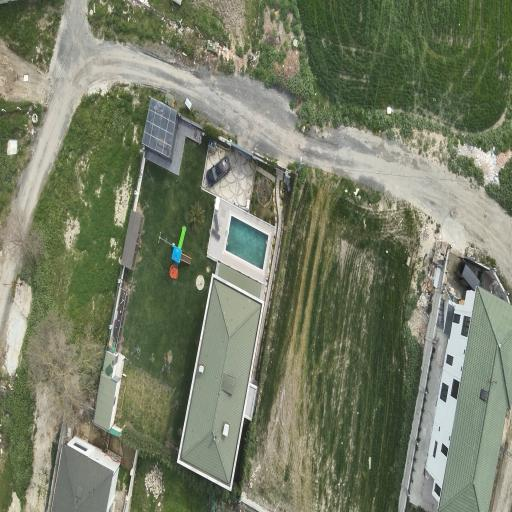car: (205, 156, 229, 185)
